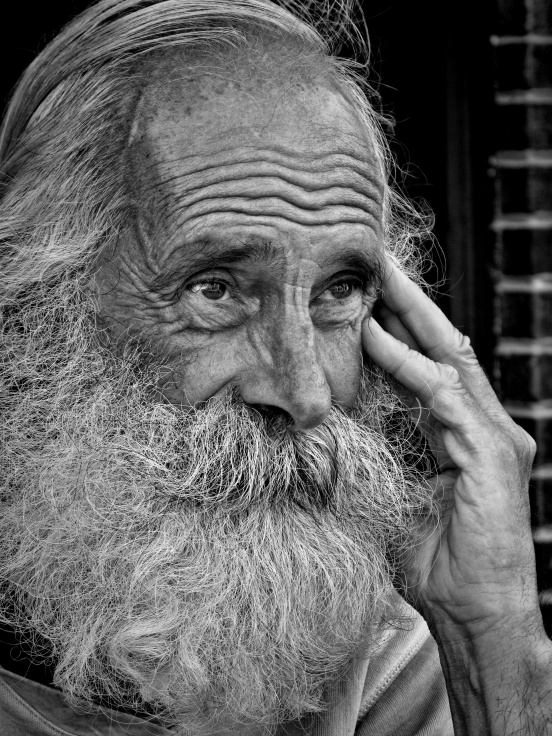Forehead: (113, 112, 396, 264)
